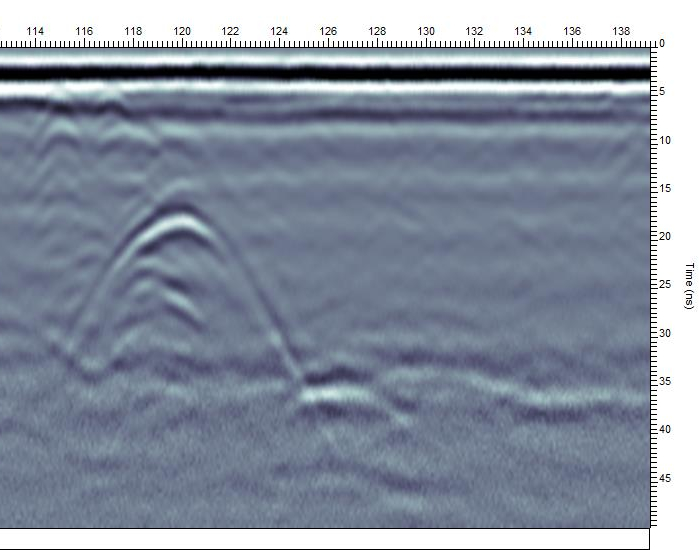hyperbola: (65, 202, 296, 384)
